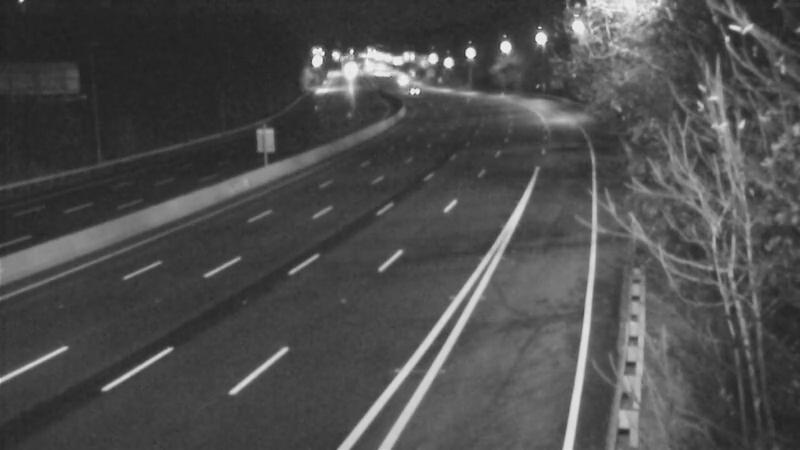vehicle: (377, 56, 427, 106), (390, 68, 440, 118), (327, 46, 377, 96)
